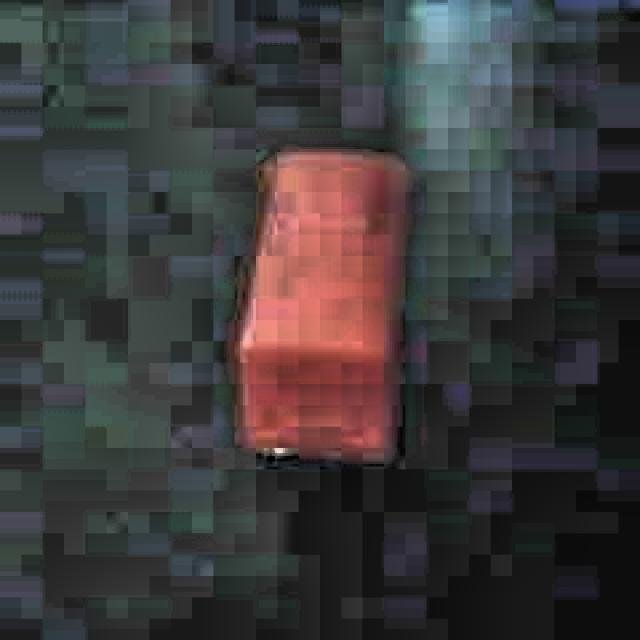bus: (233, 138, 414, 474)
